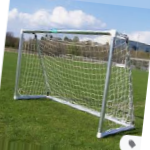goals: (12, 25, 137, 138)
